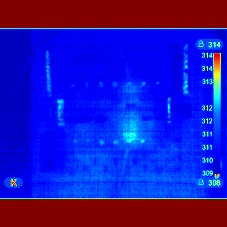High: (199, 162, 224, 189)
